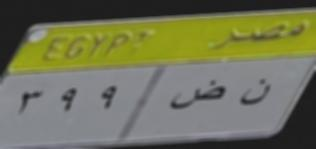3: (13, 85, 43, 119)
9: (96, 80, 119, 115), (58, 83, 80, 116)
daad: (167, 74, 229, 123)
noon: (237, 75, 272, 111)
